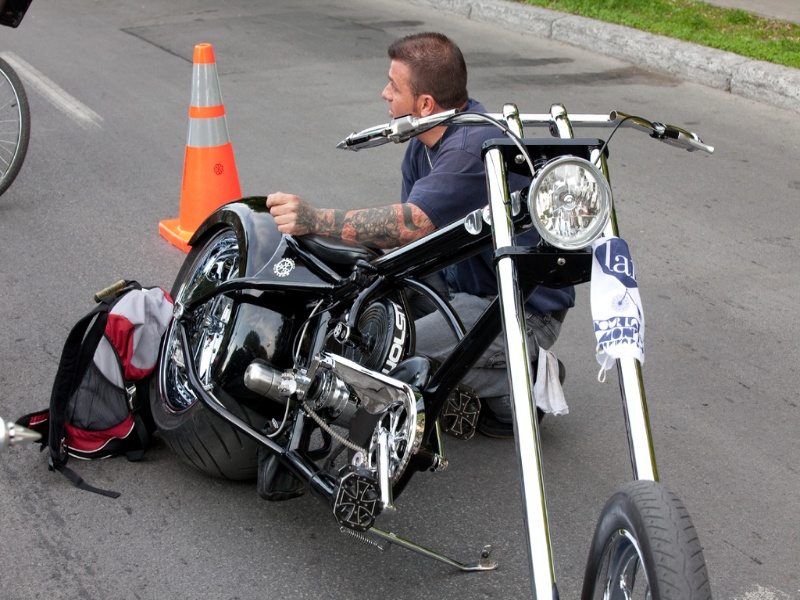person: (344, 31, 518, 238)
